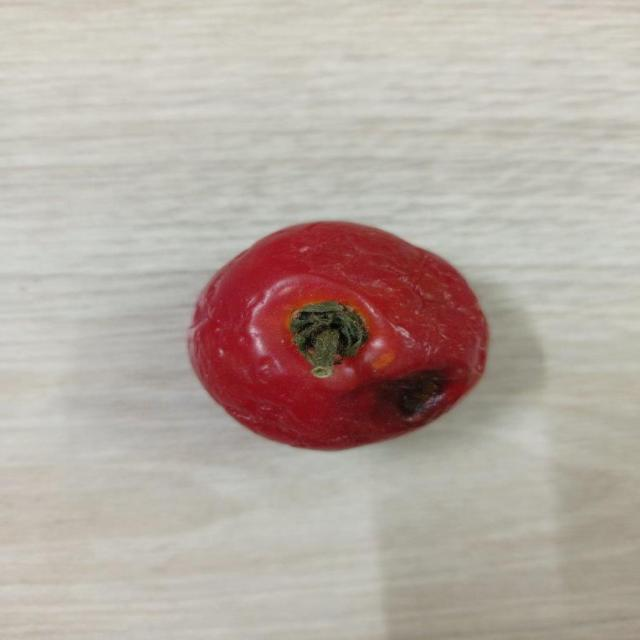Rotten: (184, 221, 492, 451)
